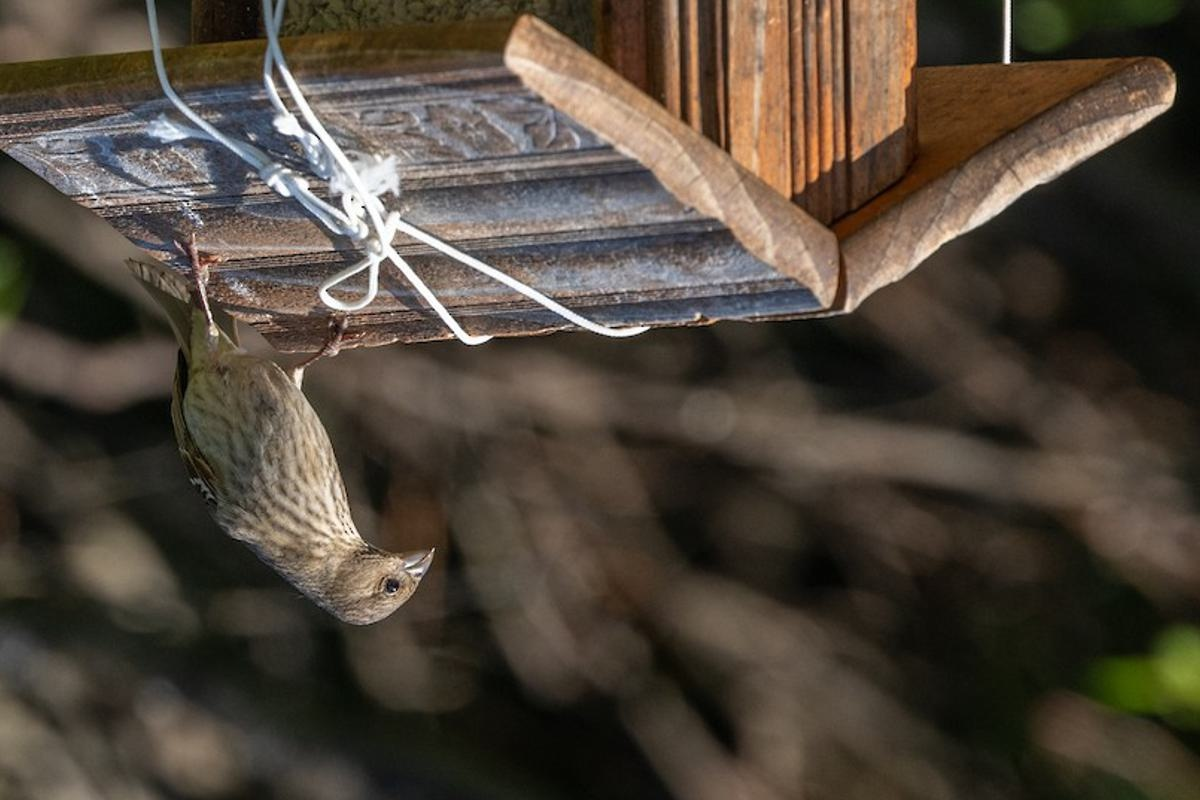rosefinch: (148, 245, 443, 630)
